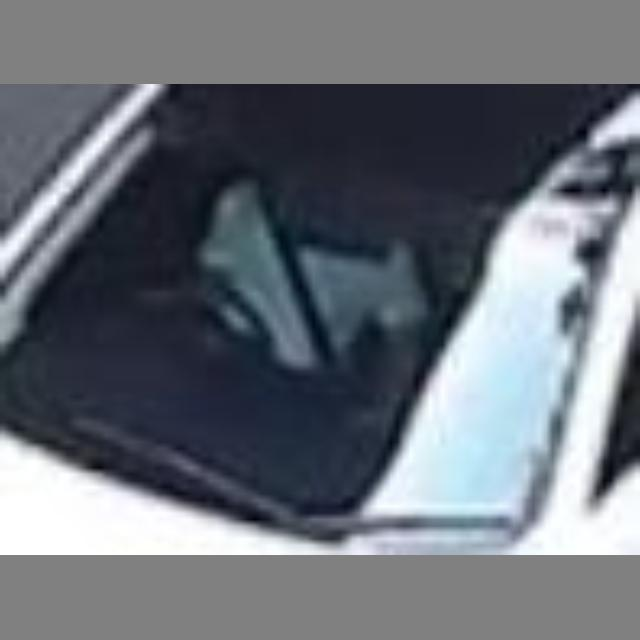pakai: (175, 116, 407, 401)
